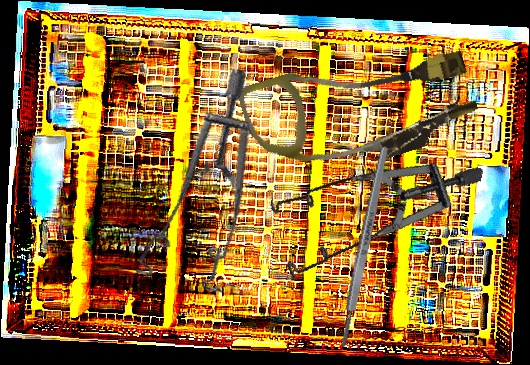Cannula: (235, 23, 485, 195)
Scalpel Handle: (336, 144, 392, 349)
Speculum: (99, 64, 288, 311), (253, 118, 484, 320)
